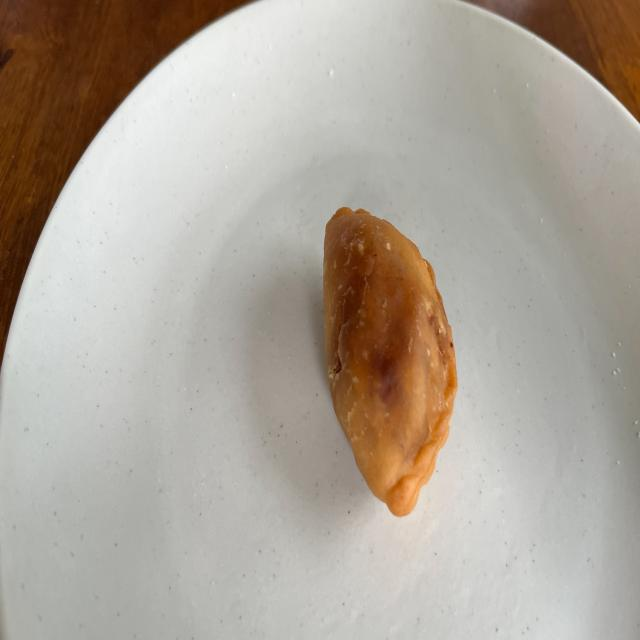karipap: (324, 207, 458, 516)
